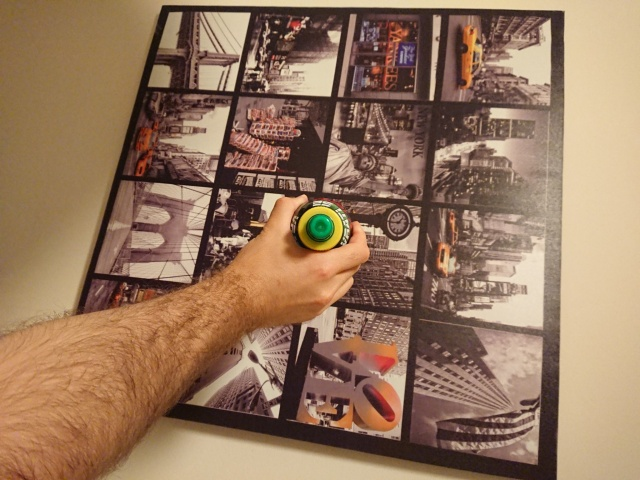Vindi Iso Sport Forest Strawberries 500mL: (288, 197, 354, 259)
